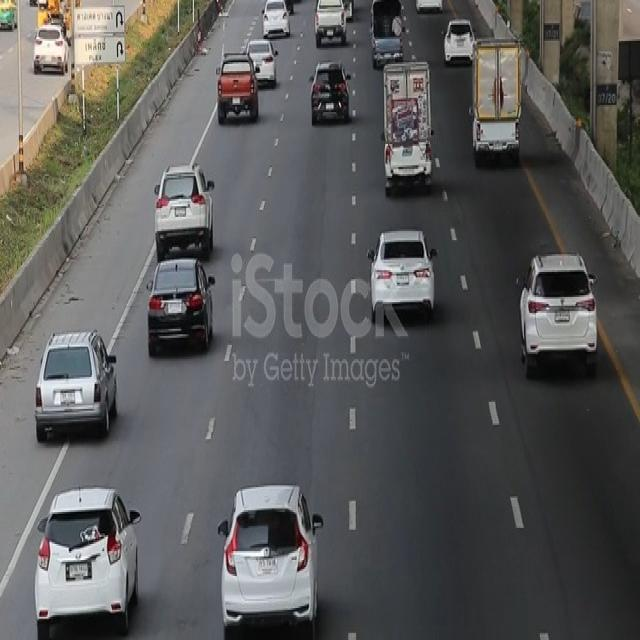Car: (214, 478, 322, 640), (30, 485, 144, 629), (32, 323, 120, 441), (513, 244, 598, 362), (143, 259, 215, 353), (366, 228, 436, 321), (152, 160, 216, 251), (307, 55, 354, 127), (30, 24, 72, 74), (441, 17, 477, 65), (246, 34, 280, 84), (260, 0, 295, 39)
Truck: (379, 63, 436, 189), (470, 35, 523, 162), (213, 48, 260, 120), (370, 0, 405, 68), (312, 0, 350, 42)
